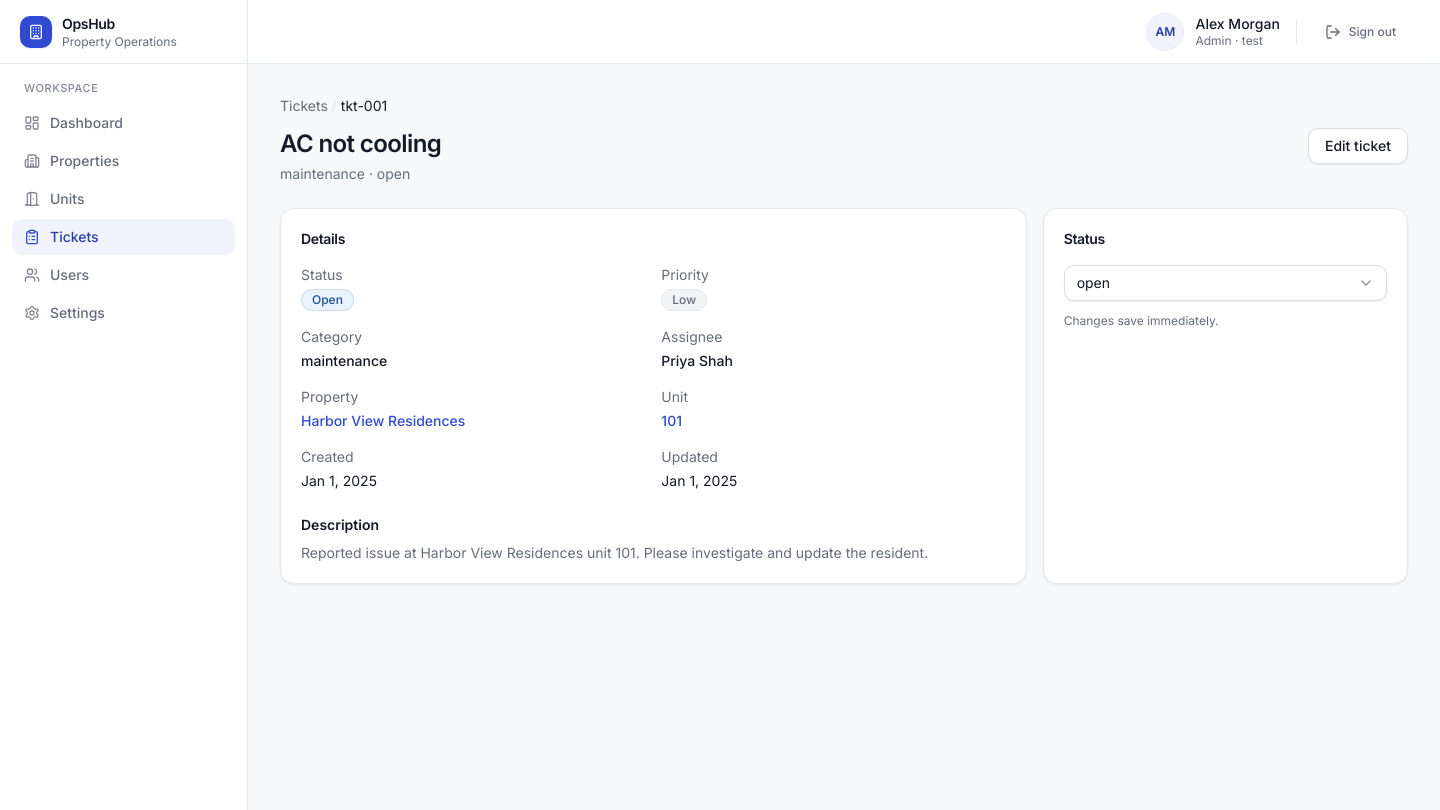
Test case: Ticket status update › updates ticket status with optimistic UI
The image size is (1440, 810).
Expected: the heading "AC not cooling" is shown, [280,128,441,160]
Click the dropdown named "Update ticket status": point(1093, 282) [1064,265,1387,301]
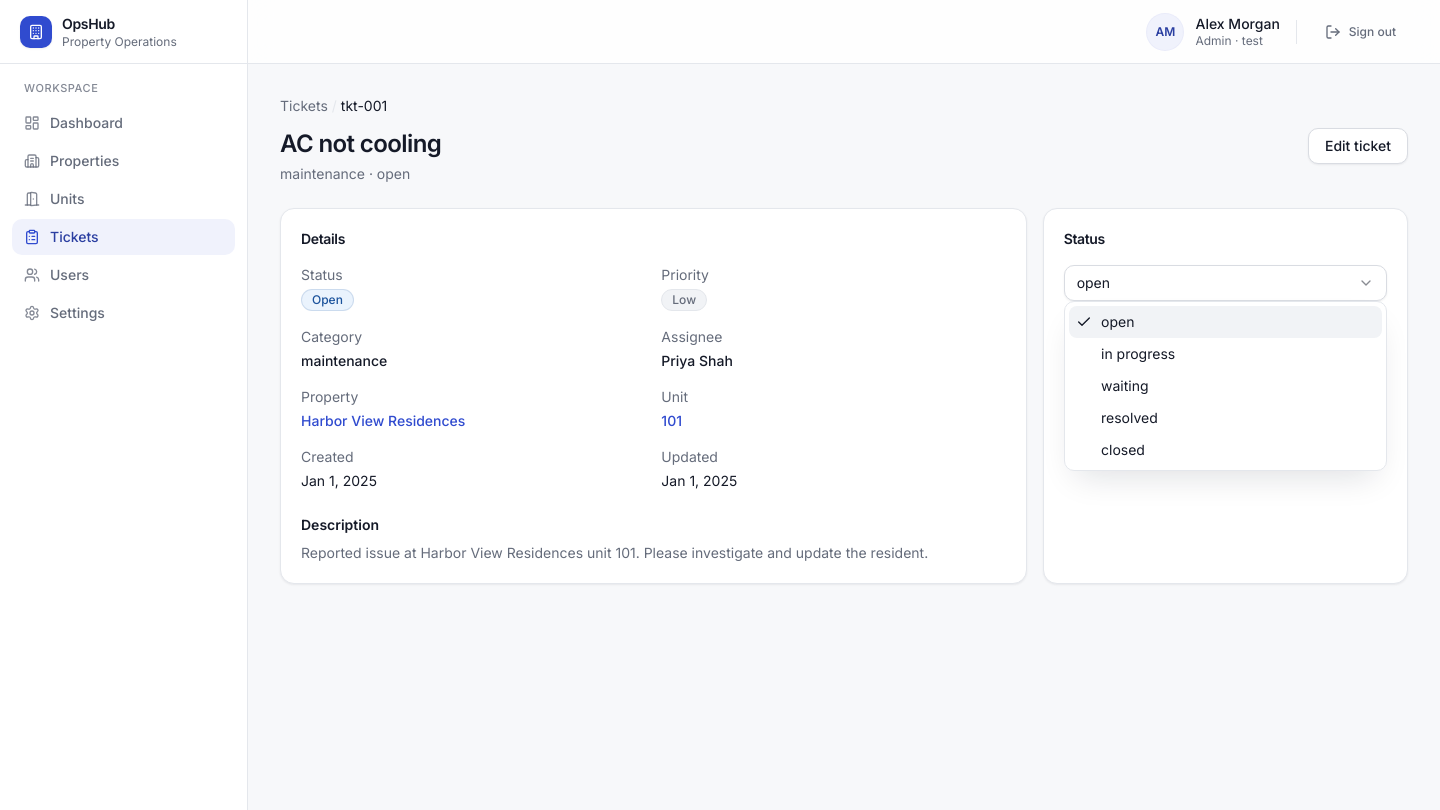
Click the option "resolved": point(1129, 418) [1101,409,1158,426]
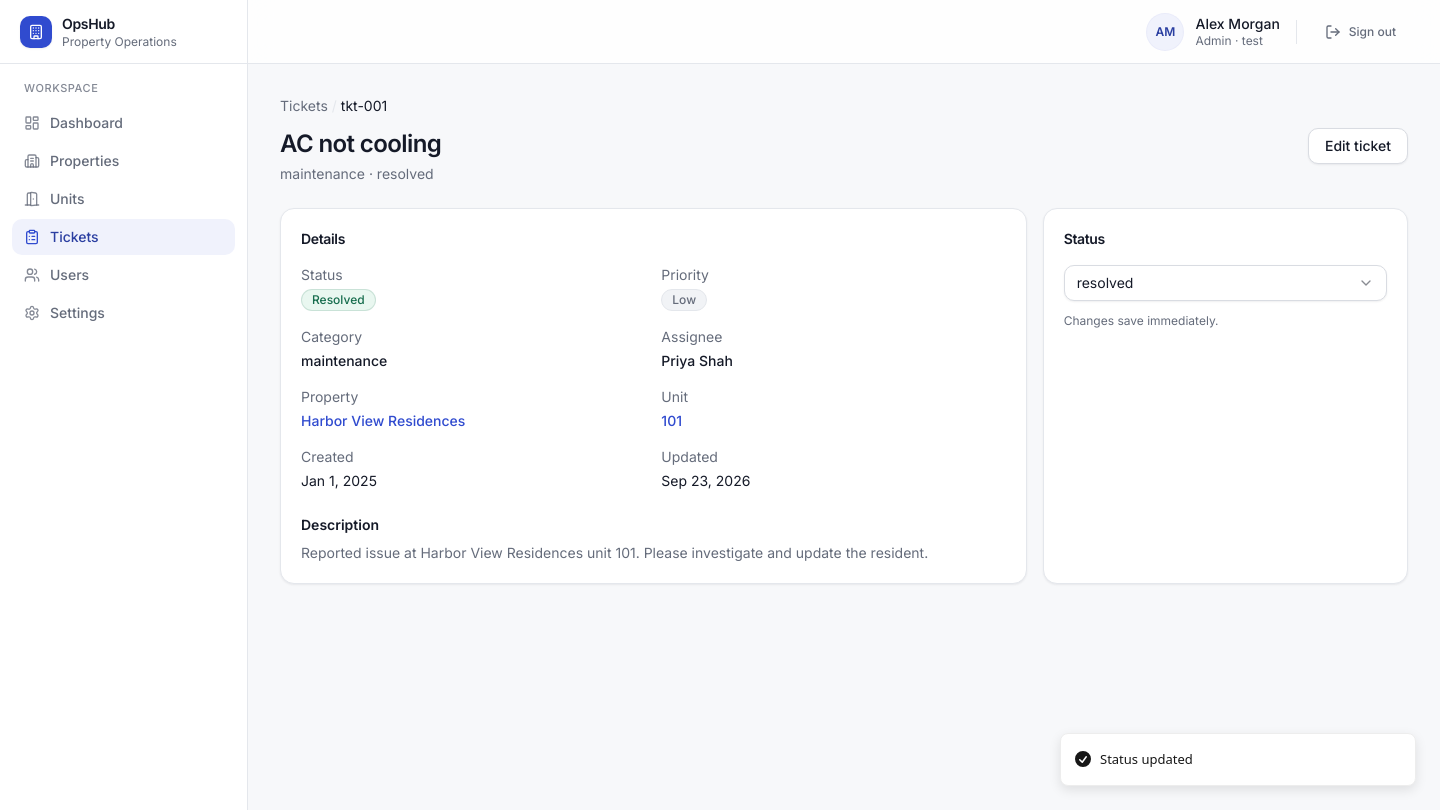
Result: the text "resolved" in the row of "low" is shown at [312,292,365,307]
Result: the text "Status updated" is shown at [1100,750,1193,769]
